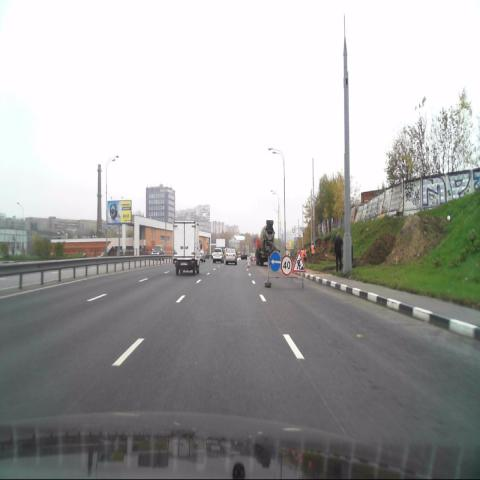4_1_2_2: (269, 251, 280, 271)
